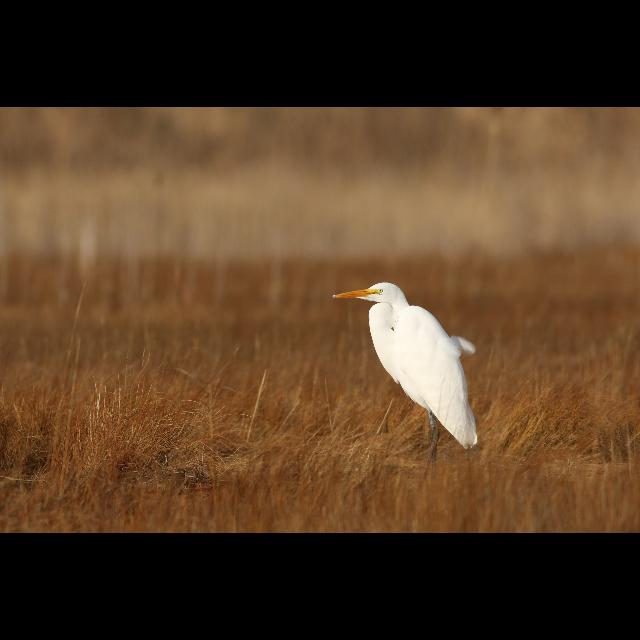egret: (327, 274, 485, 460)
